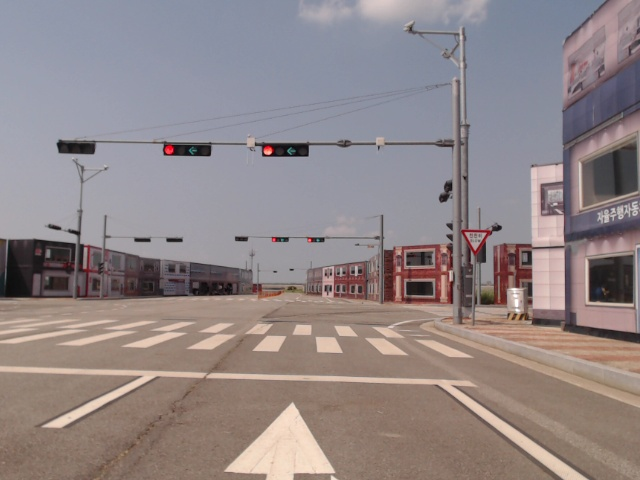left_green_4: (261, 143, 308, 159), (163, 143, 212, 156)
